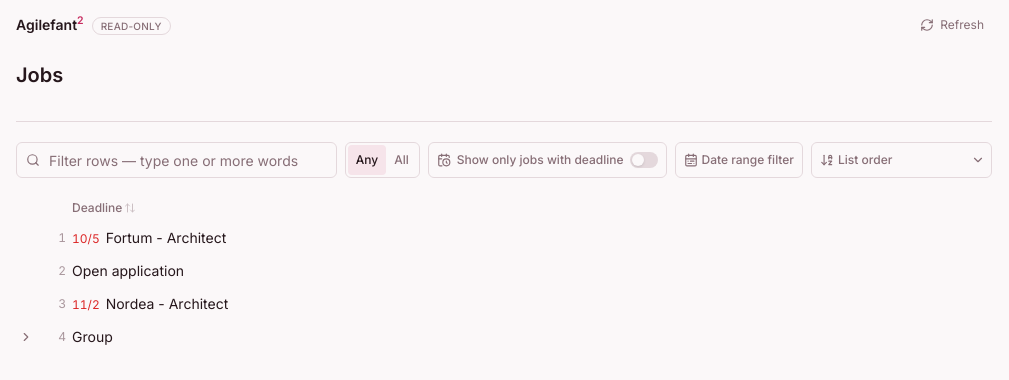
Test: on the page › leaves out the rows with no deadline when switched on, and says how many are left
The width and height of the screenshot is (1009, 380).
Expected: the text "Fortum - Architect" is shown, [106, 228, 226, 248]
Click the switch labelled "Show only jobs with deadline". click: (547, 160)
box: [428, 142, 666, 178]
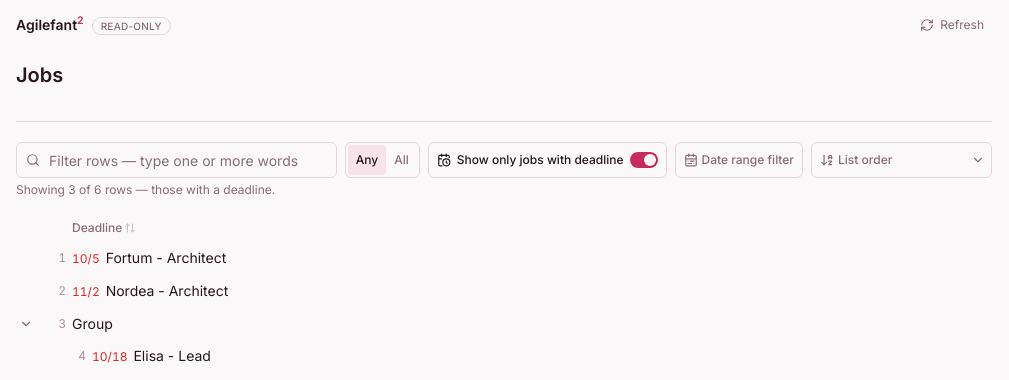
Now the message reads "Showing 3 of 6 rows — those with a deadline.", box [16, 182, 275, 197]
